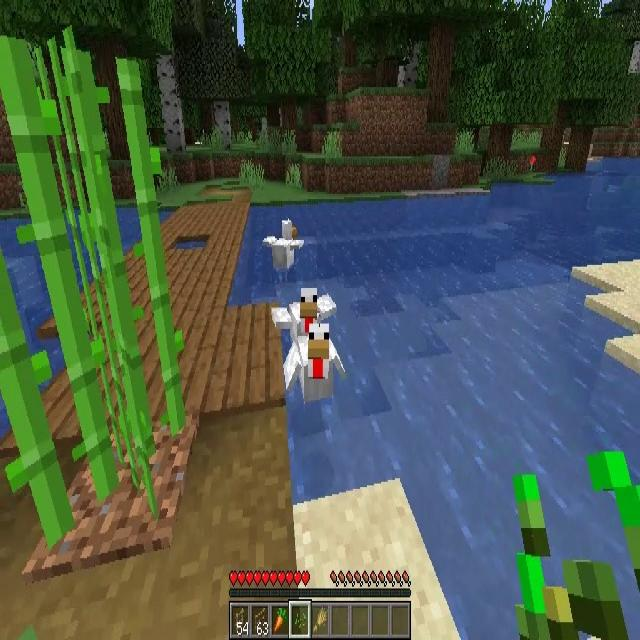duck: (282, 324, 346, 403), (274, 289, 333, 346), (263, 220, 305, 276)
